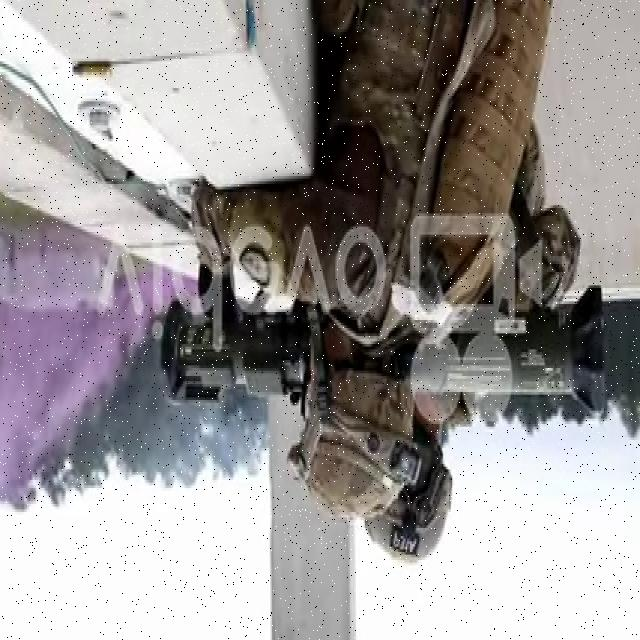bazooka: (157, 275, 616, 422)
